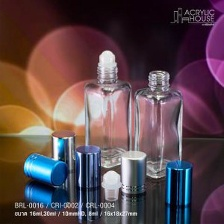bottle: (130, 69, 188, 183), (81, 47, 130, 171)
